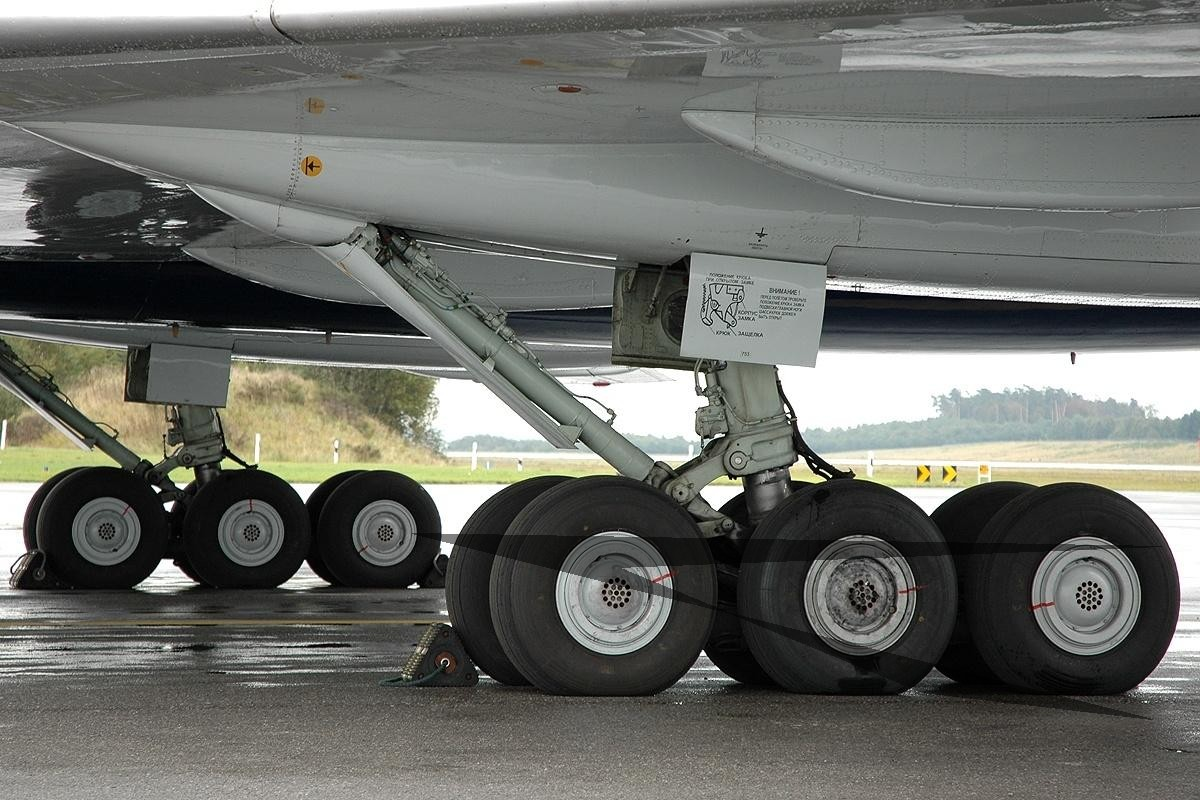chock: (393, 619, 483, 692), (4, 547, 62, 592), (418, 550, 453, 591)
wheel: (483, 473, 720, 699), (737, 479, 960, 701), (974, 481, 1183, 699), (39, 468, 170, 592), (180, 472, 308, 593), (317, 466, 441, 589)
